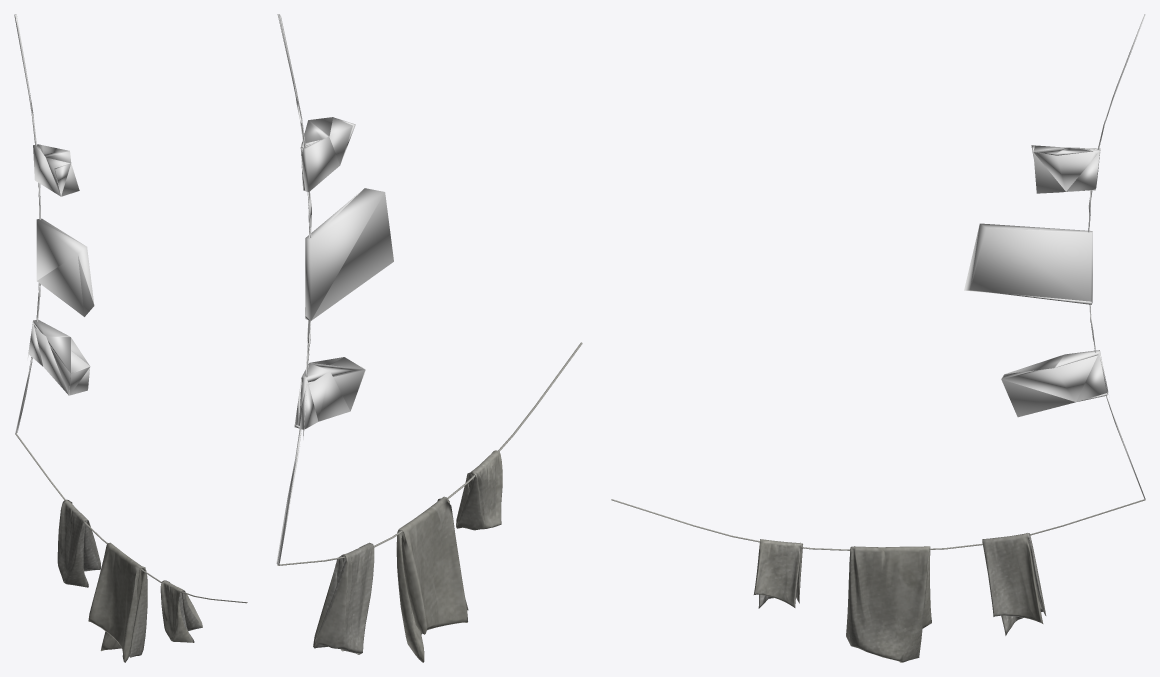
File: SM_HangingClothes.fbx
3 views of the same model, side by side, from view 1: azimuth 30°, elevation 25°; view 2: azimuth 150°, elevation 25°; view 3: azimuth 270°, elevation 25° (orthographic). The views are drawn at different scales.
Parts seen in each view (by area): view 1: SM_HangingClothes, SM_HangingClothes_ConvexHulls; view 2: SM_HangingClothes, SM_HangingClothes_ConvexHulls; view 3: SM_HangingClothes_ConvexHulls, SM_HangingClothes.
Boxes of the visible parts, bbox=[...] form: SM_HangingClothes: bbox=[15, 433, 247, 662]; SM_HangingClothes_ConvexHulls: bbox=[14, 14, 94, 433]; SM_HangingClothes: bbox=[277, 342, 582, 662]; SM_HangingClothes_ConvexHulls: bbox=[276, 14, 393, 564]; SM_HangingClothes_ConvexHulls: bbox=[964, 14, 1145, 499]; SM_HangingClothes: bbox=[611, 499, 1145, 662].
Size of the model in its own units: 0.3726 by 5.04 by 3.75.
